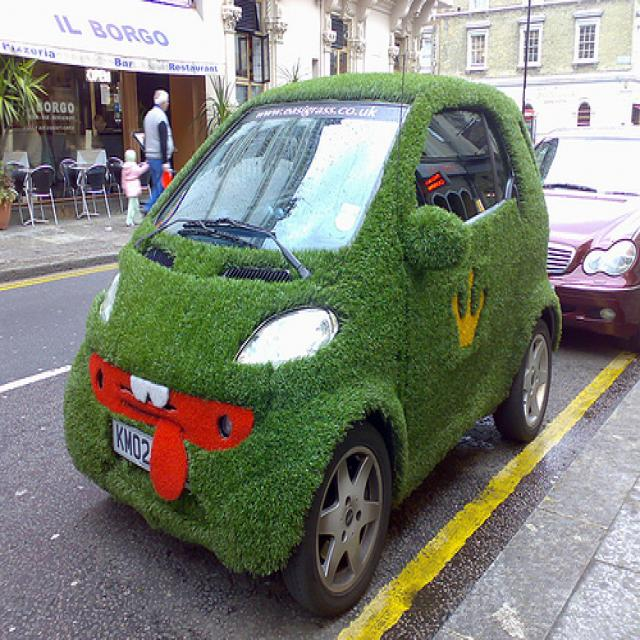Car: (62, 74, 568, 616), (522, 118, 640, 356)
